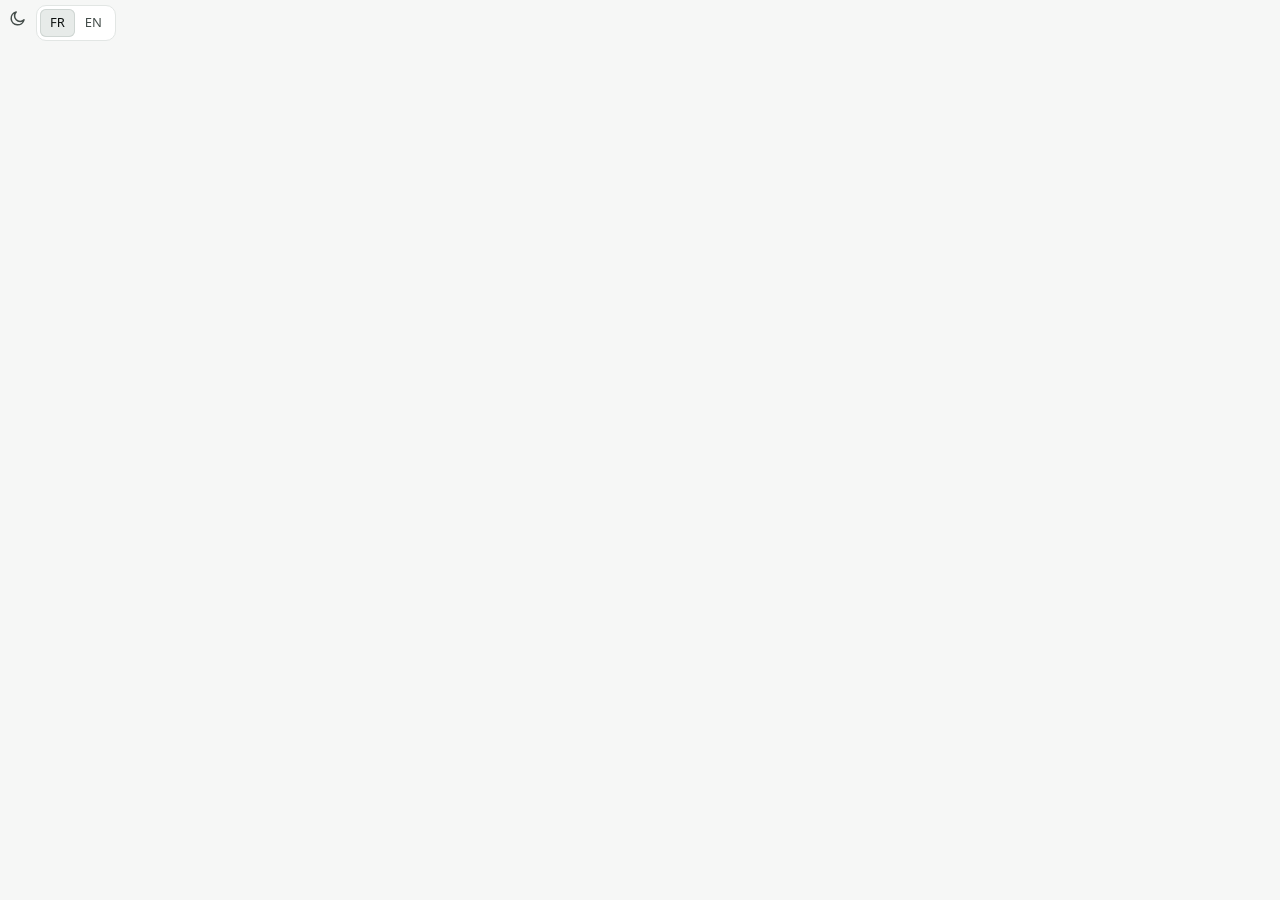
Test: le thème clair est celui par défaut, le sombre se choisit et se mémorise
Click the button named "Passer en mode sombre": (18, 18) [0,0,36,36]
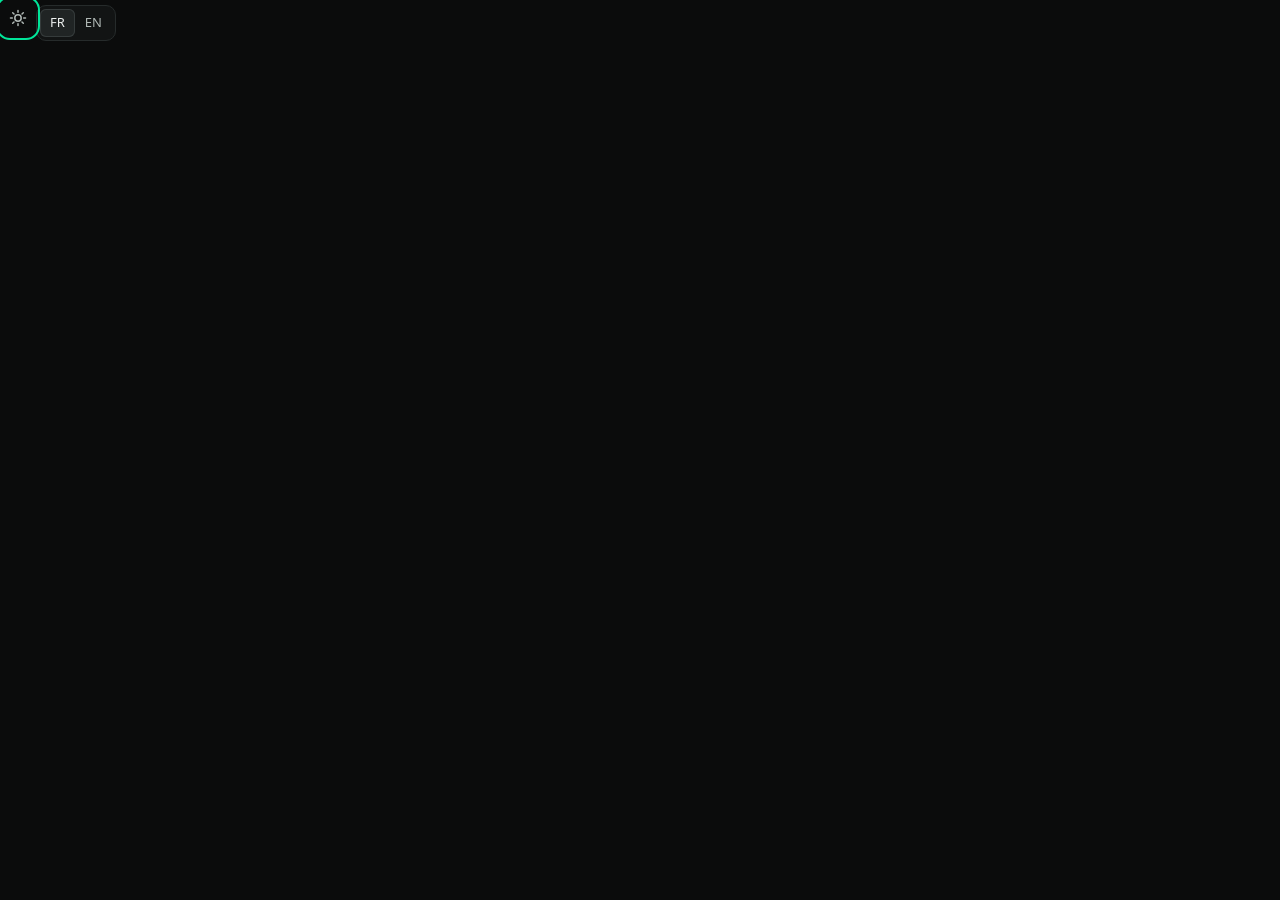
expect the button named "Passer en mode clair" is shown: met, box [0,0,36,36]
